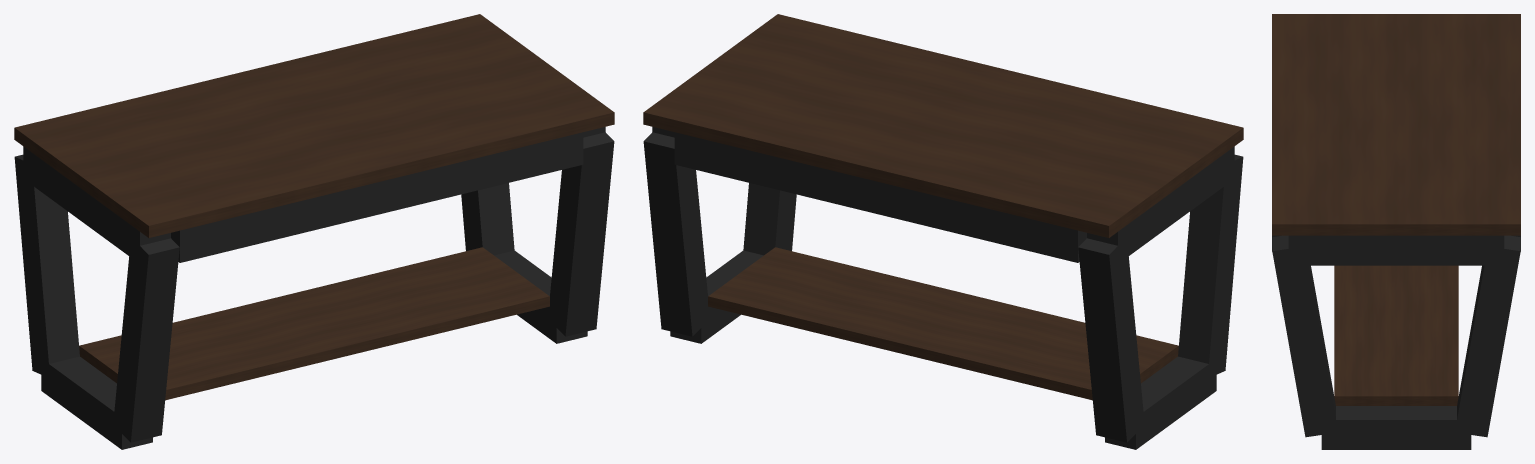
File: mesa-living-nord-estante-ebano-negro.glb
3 renders of one model, left to right at view 1: azimuth 30°, elevation 25°; view 2: azimuth 150°, elevation 25°; view 3: azimuth 270°, elevation 25°, orthographic. The views are drawn at different scales.
Visible parts, largest first — view 1: Tapa de madera maciza 120 x 60 x 3 cm, Pata inclinada hacia adentro, perfil 80 x 80 mm (×4), Estante inferior de madera (proporción aproximada), Larguero longitudinal superior de hierro 80 x 80 mm, Travesaño inferior del trapecio, ancho exterior 44 cm (×2), Travesaño superior del trapecio, ancho exterior 60 cm; view 2: Tapa de madera maciza 120 x 60 x 3 cm, Pata inclinada hacia adentro, perfil 80 x 80 mm (×4), Estante inferior de madera (proporción aproximada), Larguero longitudinal superior de hierro 80 x 80 mm, Travesaño inferior del trapecio, ancho exterior 44 cm (×2), Travesaño superior del trapecio, ancho exterior 60 cm; view 3: Tapa de madera maciza 120 x 60 x 3 cm, Estante inferior de madera (proporción aproximada), Pata inclinada hacia adentro, perfil 80 x 80 mm (×2), Travesaño superior del trapecio, ancho exterior 60 cm, Travesaño inferior del trapecio, ancho exterior 44 cm.
Boxes of the visible parts, x1,y1,x2,y2 form: Tapa de madera maciza 120 x 60 x 3 cm: [14, 14, 614, 237]; Pata inclinada hacia adentro, perfil 80 x 80 mm (×4): [14, 132, 614, 442]; Estante inferior de madera (proporción aproximada): [79, 247, 549, 400]; Larguero longitudinal superior de hierro 80 x 80 mm: [171, 132, 583, 262]; Travesaño inferior del trapecio, ancho exterior 44 cm (×2): [41, 250, 587, 449]; Travesaño superior del trapecio, ancho exterior 60 cm: [23, 146, 170, 263]; Tapa de madera maciza 120 x 60 x 3 cm: [643, 14, 1243, 237]; Pata inclinada hacia adentro, perfil 80 x 80 mm (×4): [643, 132, 1243, 442]; Estante inferior de madera (proporción aproximada): [708, 247, 1178, 400]; Larguero longitudinal superior de hierro 80 x 80 mm: [674, 132, 1086, 262]; Travesaño inferior del trapecio, ancho exterior 44 cm (×2): [670, 250, 1216, 449]; Travesaño superior del trapecio, ancho exterior 60 cm: [1087, 146, 1234, 263]; Tapa de madera maciza 120 x 60 x 3 cm: [1272, 14, 1520, 235]; Estante inferior de madera (proporción aproximada): [1334, 265, 1458, 405]; Pata inclinada hacia adentro, perfil 80 x 80 mm (×2): [1272, 235, 1520, 437]; Travesaño superior del trapecio, ancho exterior 60 cm: [1288, 235, 1504, 265]; Travesaño inferior del trapecio, ancho exterior 44 cm: [1321, 406, 1471, 449].
Bounding box in the file's own units: 1.2 × 0.6 × 0.6.
2 materials, 1 textured.
